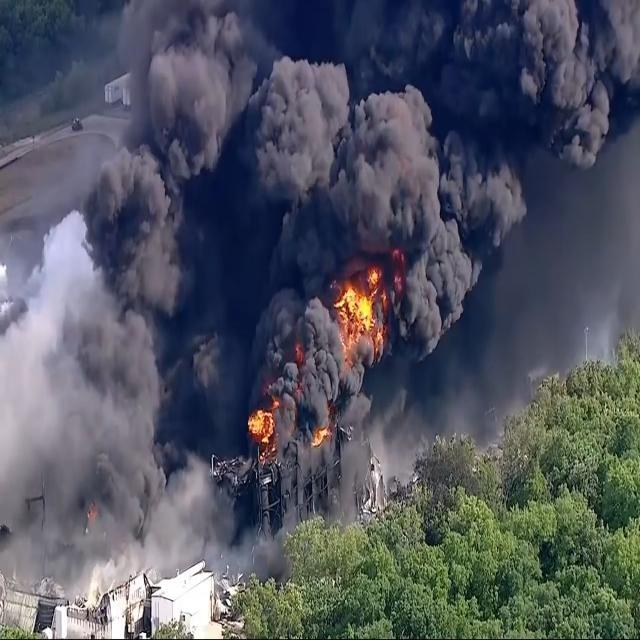Fire: (335, 236, 415, 362), (249, 397, 285, 455)
Smoke: (79, 0, 640, 503)
